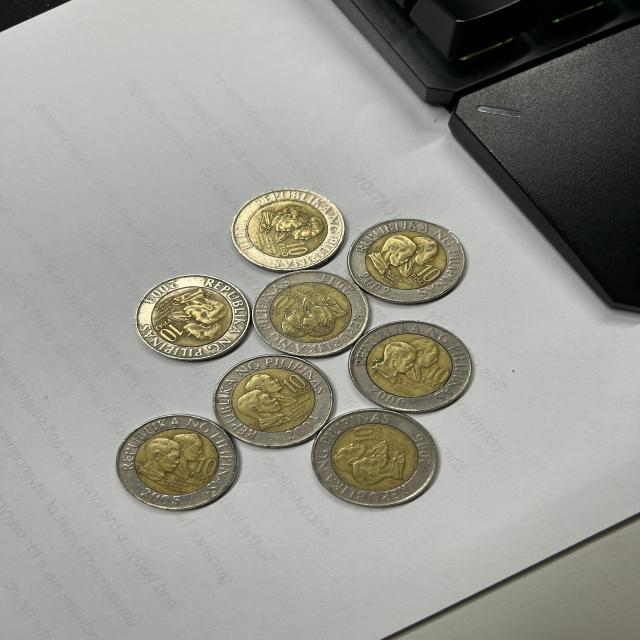10_Old_Front: (280, 373, 308, 393), (157, 321, 182, 342), (196, 456, 220, 477), (418, 264, 442, 282), (352, 426, 378, 442), (427, 367, 454, 382), (285, 240, 308, 255), (273, 296, 296, 311)
